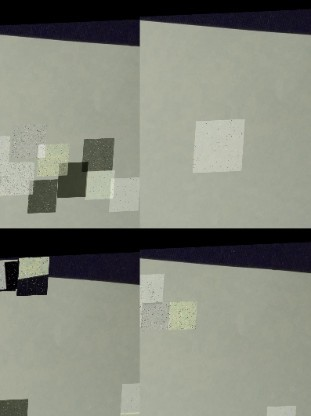ironball: (195, 120, 247, 174), (17, 258, 50, 297), (13, 125, 49, 160), (2, 162, 37, 197), (60, 163, 90, 199), (84, 140, 116, 173), (39, 145, 71, 177), (30, 180, 60, 214), (112, 179, 140, 214), (88, 172, 118, 201), (142, 303, 172, 331), (170, 302, 198, 331), (140, 274, 165, 305), (0, 261, 19, 292), (123, 385, 140, 415), (0, 136, 12, 177), (0, 400, 31, 415), (269, 407, 299, 415)
